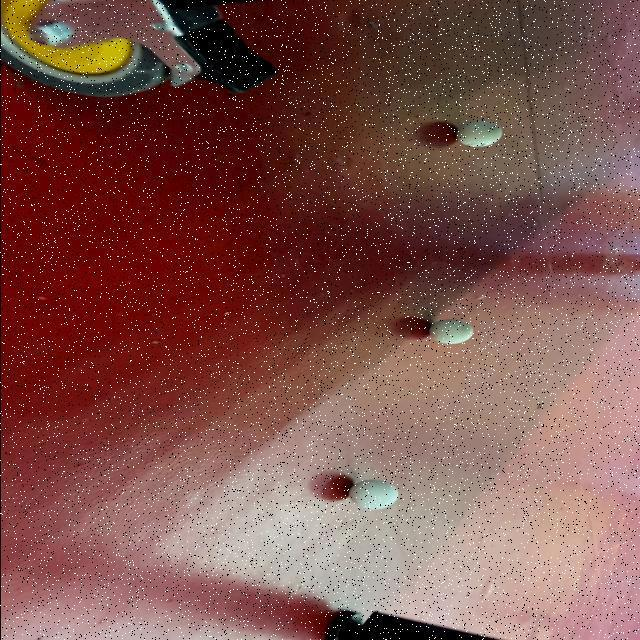ping-pong-ball: (346, 478, 400, 511), (453, 118, 503, 148), (428, 318, 473, 346)
